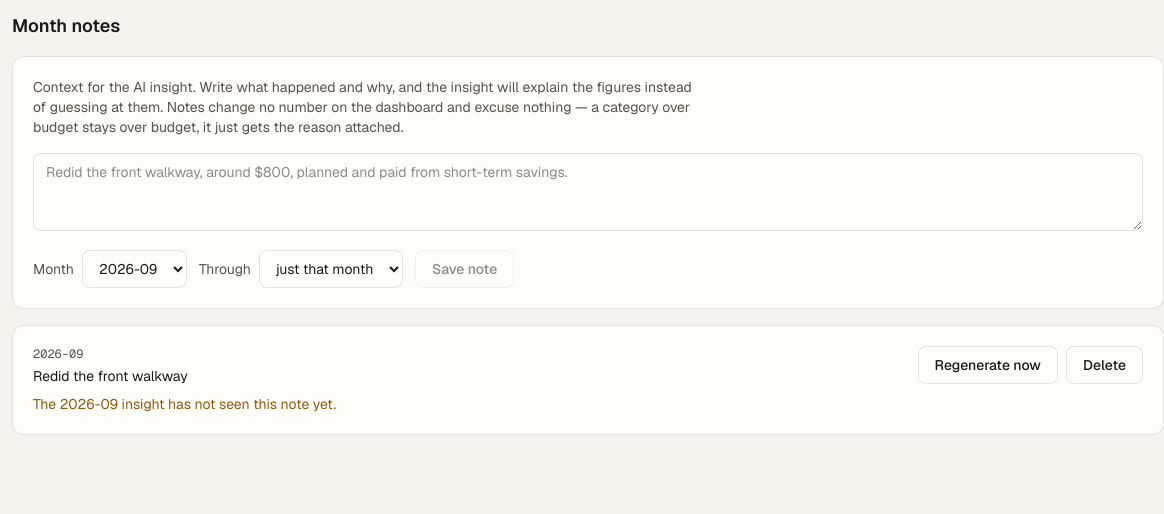
Test: a delete that cannot reach the server says so
This screenshot has width=1164, height=514.
Check: the text "Redid the front walkway" is shown, box [33, 367, 188, 385]
Click the button "Delete". click: (1104, 365)
box: [1066, 346, 1143, 384]
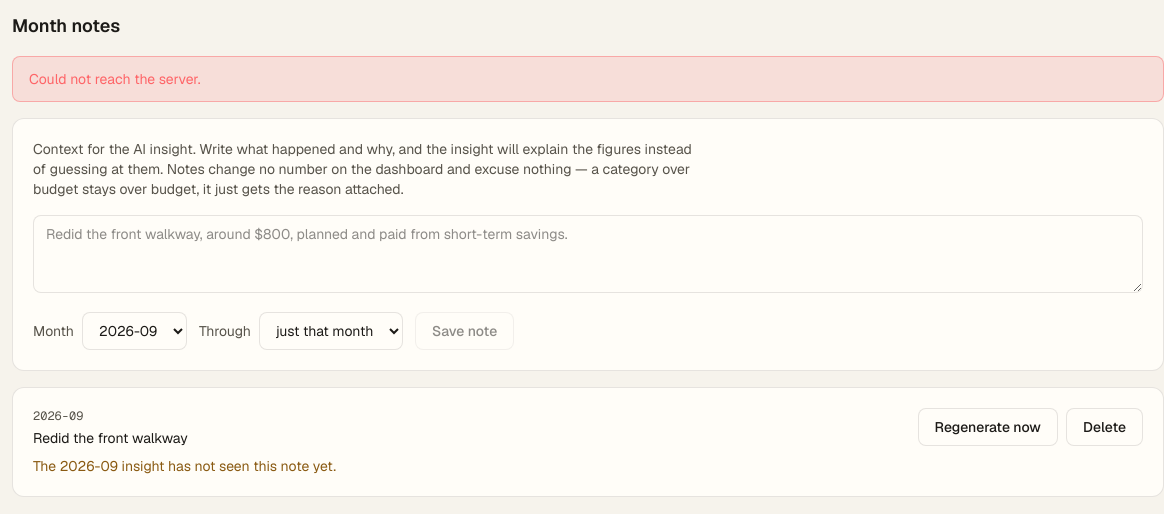
Check: the text "Could not reach the server." is shown, box [12, 56, 1163, 102]
